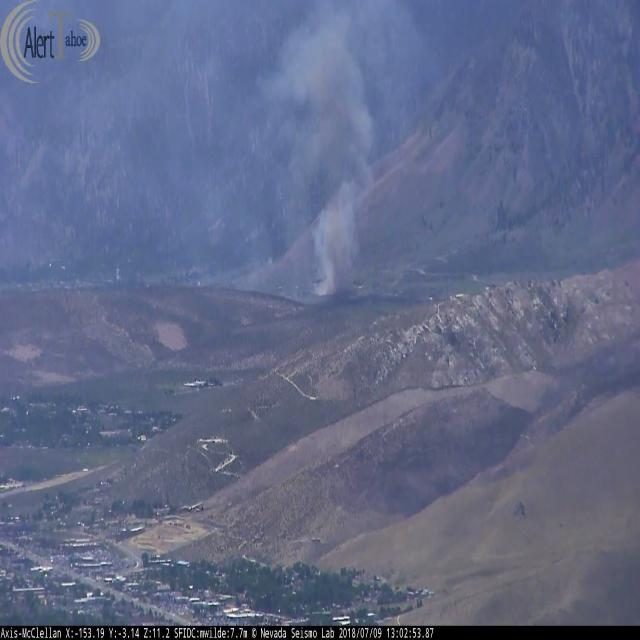smoke: (258, 0, 426, 297)
